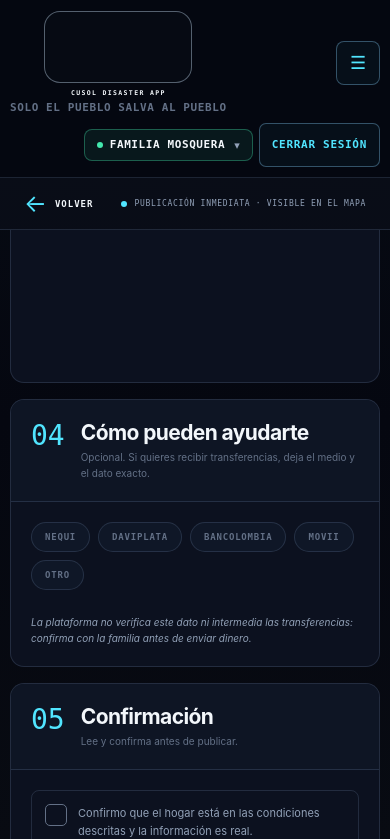
Test: DamagedHomeForm (CHG-182) › exige el dato de transferencia al elegir un medio de ayuda
(page scrolled)
Step 1. Click the button with test id "donation-channel-Nequi" → (61, 537), box [31,522,90,552]
(page scrolled)
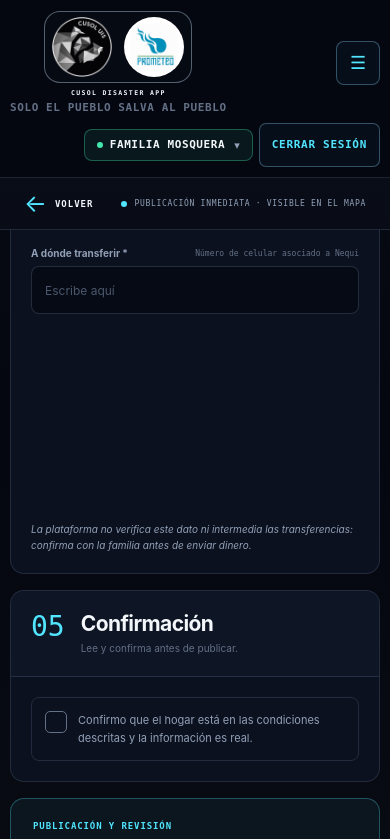
Expected: the text "no verifica este dato ni intermedia" is shown, [31,523,356,551]
Now the field named "A dónde transferir *" is shown, box [31,266,359,314]
